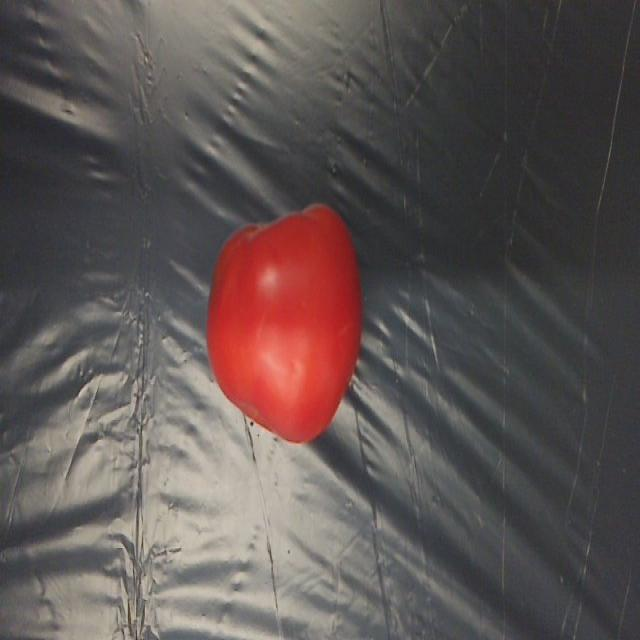kirmizi: (193, 193, 373, 452)
